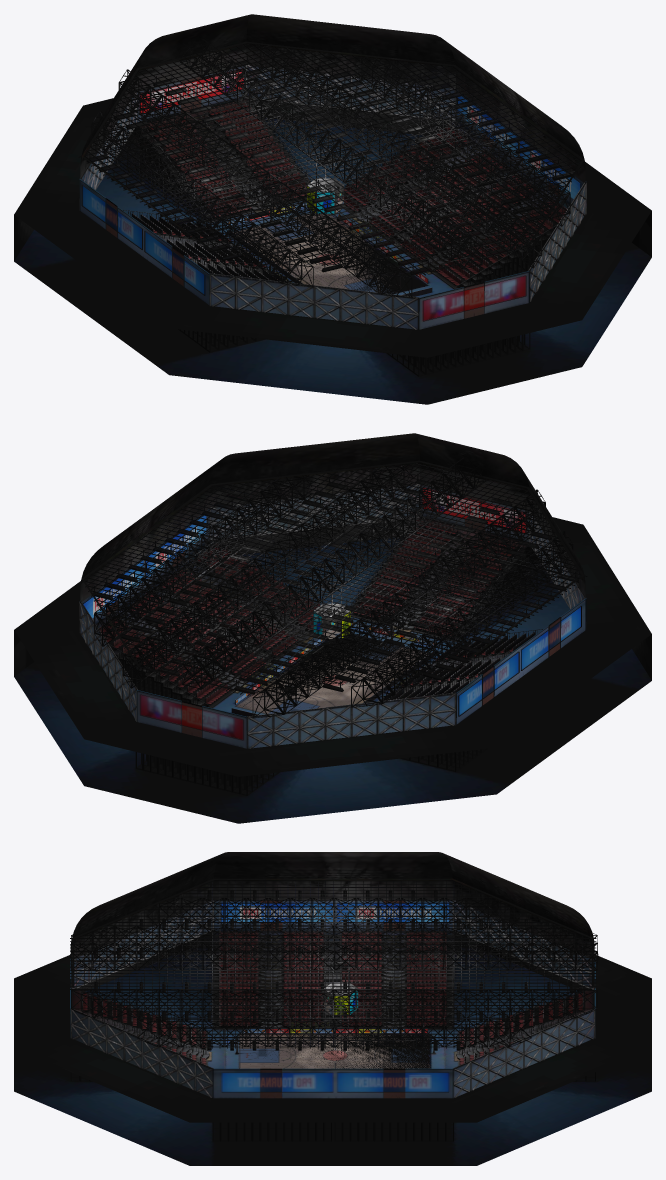
File: arena.glb
3 renders of one model, top to bottom at view 1: azimuth 30°, elevation 25°; view 2: azimuth 150°, elevation 25°; view 3: azimuth 270°, elevation 25°, orthographic. The views are drawn at different scales.
Parts seen in each view (by area): view 1: Basketball; view 2: Basketball; view 3: Basketball.
Boxes of the visible parts, x1,y1,x2,y2 form: Basketball: [14, 14, 651, 404]; Basketball: [14, 433, 651, 823]; Basketball: [14, 852, 651, 1165].
Size of the model in its own units: 75.09 by 22.55 by 92.88.
33 materials, 33 textured.
